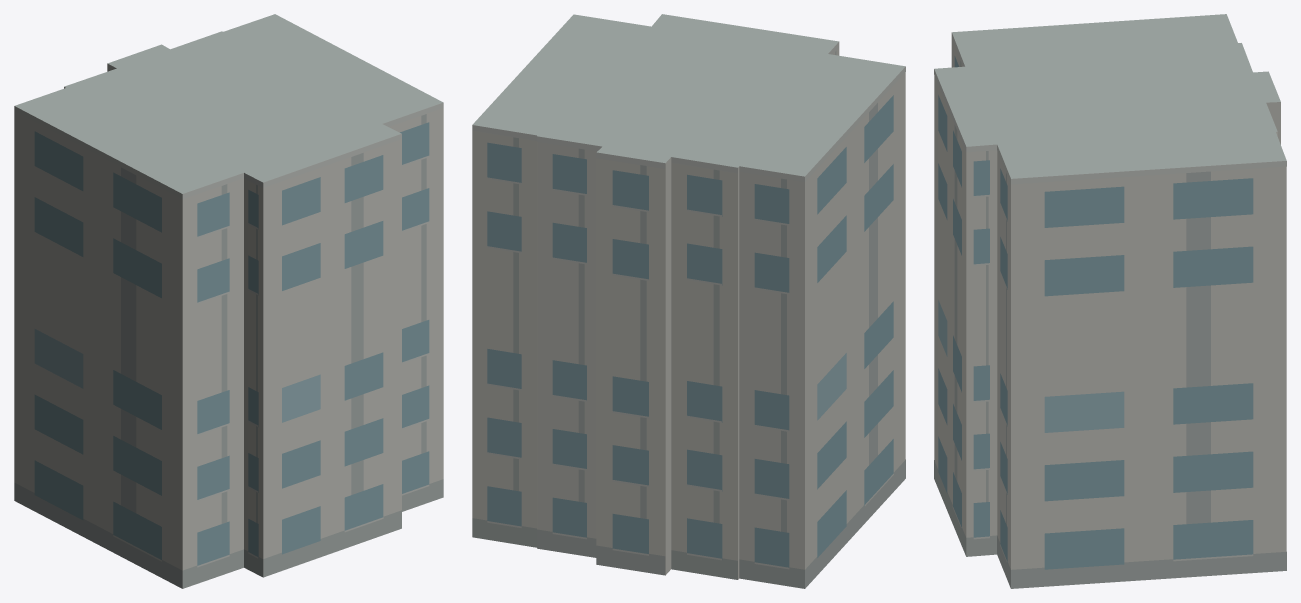
File: survey-upis-32836812.glb
3 views of the same model, side by side, from view 1: azimuth 30°, elevation 25°; view 2: azimuth 150°, elevation 25°; view 3: azimuth 270°, elevation 25° (orthographic). The views are drawn at different scales.
Visible parts, largest first — view 1: survey-upis-32836812.tmp; view 2: survey-upis-32836812.tmp; view 3: survey-upis-32836812.tmp.
Part boxes in pixels (<box>): survey-upis-32836812.tmp: <box>14,14,443,588</box>; survey-upis-32836812.tmp: <box>472,14,905,588</box>; survey-upis-32836812.tmp: <box>934,14,1286,588</box>.
Bounding box in the file's own units: 15.1 × 17.5 × 13.65.
